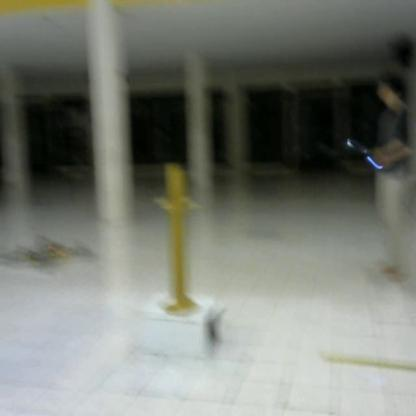pole: (154, 159, 205, 325)
